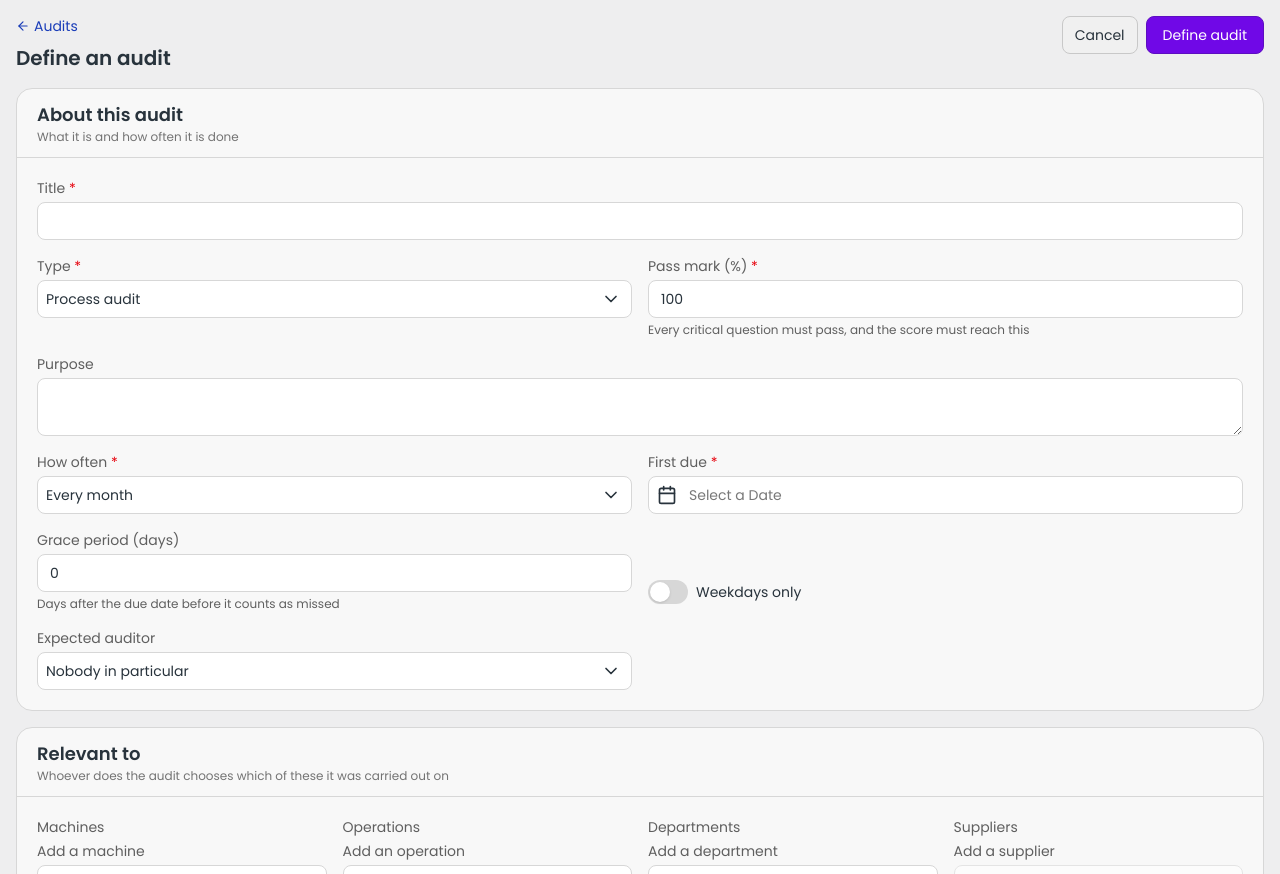
Test case: audit form › lists what is still needed and sends nothing until it is there
Expected: the heading "Define an audit" is shown, [16,44,171,72]
Click the button "Define audit": {"x": 1205, "y": 35} [1146,16,1264,54]
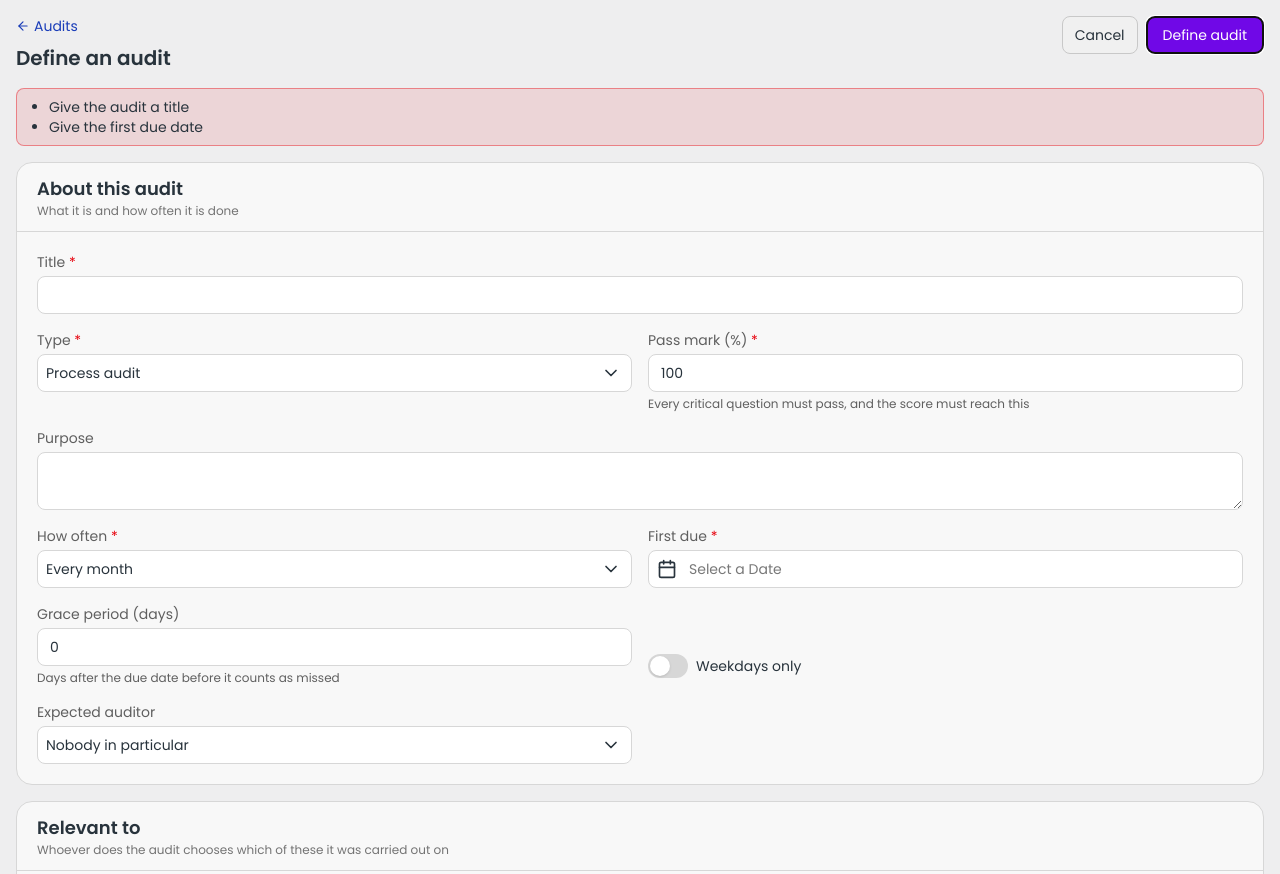
Expected: the list item "Give the audit a title" is shown, [49,97,189,117]
Expected: the list item "Give the first due date" is shown, [49,117,203,137]
